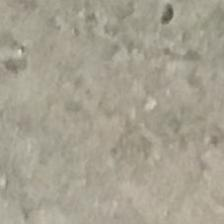Non_Crack: (29, 41, 170, 196)
